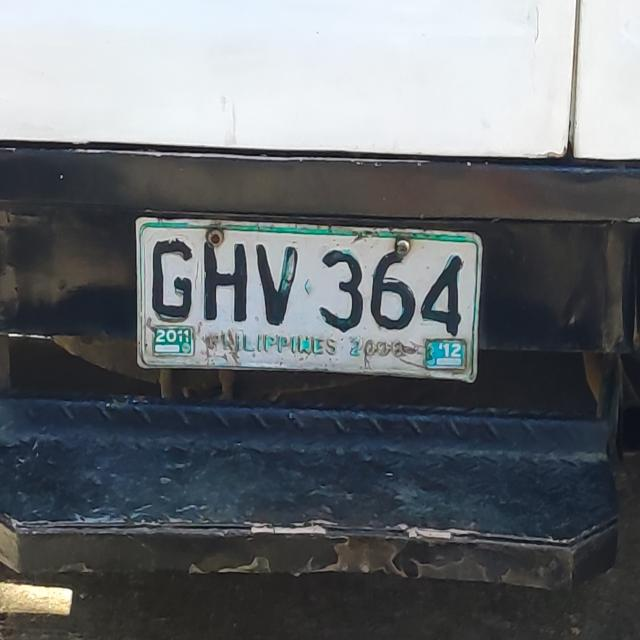plate: (130, 208, 488, 389)
